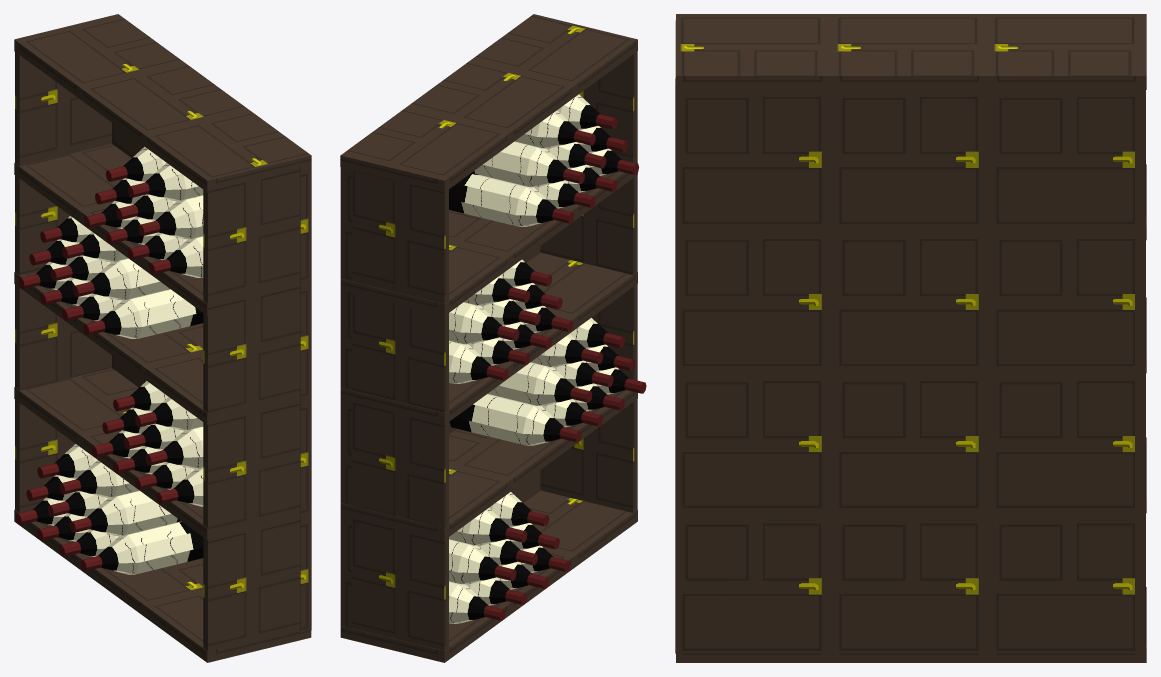
The model's file is ShelfAnim.fbx.
3 renders of one model, left to right at view 1: azimuth 30°, elevation 25°; view 2: azimuth 150°, elevation 25°; view 3: azimuth 270°, elevation 25°, orthographic. The views are drawn at different scales.
Visible parts, largest first — view 1: Shelfobj.017; view 2: Shelfobj.017; view 3: Shelfobj.017.
Boxes of the visible parts, bbox=[...] form: Shelfobj.017: bbox=[14, 14, 311, 662]; Shelfobj.017: bbox=[340, 14, 646, 662]; Shelfobj.017: bbox=[675, 14, 1146, 662].
Size of the model in its own units: 1.17 by 3 by 4.13.
2 materials, 2 textured.
